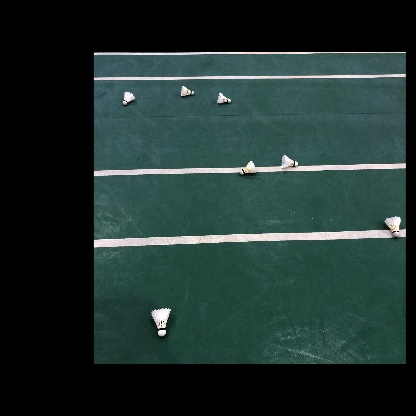ball_single: (151, 308, 171, 336), (384, 216, 401, 238), (239, 161, 257, 175), (280, 155, 298, 168), (122, 92, 135, 105), (217, 93, 231, 103), (180, 86, 194, 96)
